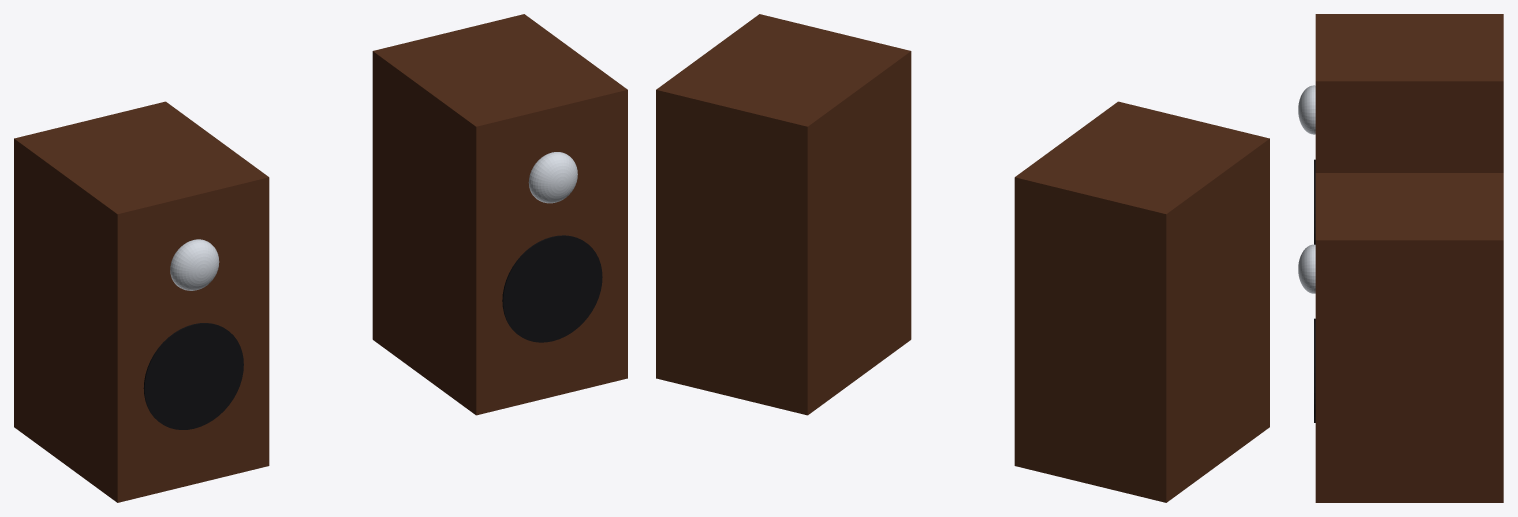
3 views of the same model, side by side, from view 1: azimuth 30°, elevation 25°; view 2: azimuth 150°, elevation 25°; view 3: azimuth 270°, elevation 25° (orthographic). The views are drawn at different scales.
Visible parts, largest first — view 1: bookshelf_speakers; view 2: bookshelf_speakers; view 3: bookshelf_speakers.
Part boxes in pixels (left/top/right/bottom): bookshelf_speakers: left=14, top=14, right=627, bottom=502; bookshelf_speakers: left=656, top=14, right=1269, bottom=502; bookshelf_speakers: left=1298, top=14, right=1503, bottom=502.
Bounding box in the file's own units: 7.4 × 4 × 2.84.
